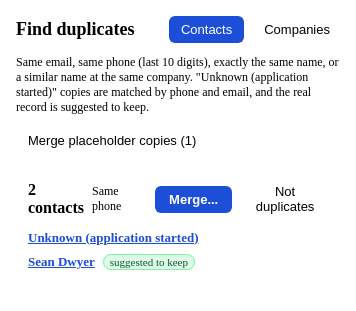
Scenario: merges › Find duplicates merges the placeholder copies after a dry run and a confirm
Check: the text "suggested to keep" is shown, box [103, 254, 195, 270]
Step 1. Click the button with test id "crm-merge-placeholders" → click(112, 140), box [16, 127, 208, 154]
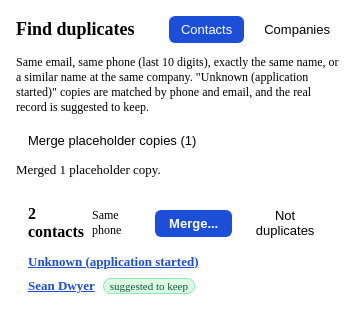
Check: the text "Merged 1 placeholder copy." is shown, box [16, 162, 161, 178]
